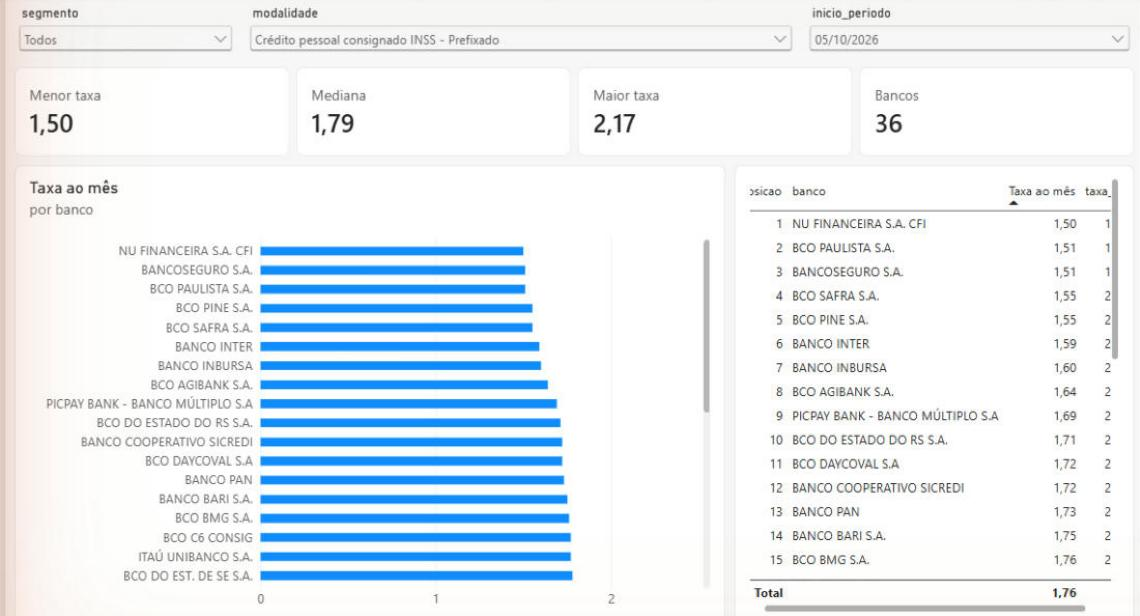

What the dashboard file says about the page in this screenshot:
{"tool":"powerbi","page":{"name":"Ranking","canvas":[1280,720],"ordinal":0},"visuals":[{"type":"slicer","fields":{"Values":["taxas.segmento"]},"box":[10,10,250,60],"z":0},{"type":"slicer","fields":{"Values":["taxas.modalidade"]},"box":[270,10,620,60],"z":1},{"type":"slicer","fields":{"Values":["taxas.inicio_periodo"]},"box":[900,10,370,60],"z":2},{"type":"cardVisual","fields":{"Data":["taxas.Menor taxa","taxas.Mediana","taxas.Maior taxa","taxas.Bancos"]},"box":[10,80,1260,100],"z":3},{"type":"clusteredBarChart","fields":{"Category":["taxas.banco"],"Y":["taxas.Taxa ao mês"]},"box":[10,190,800,520],"z":4},{"type":"tableEx","fields":{"Values":["taxas.posicao","taxas.banco","taxas.Taxa ao mês","taxas.taxa_ano"]},"box":[820,190,450,520],"z":5}]}

Visuals, with their boxes on the page's 1280x720 design canvas (x1, y1, x2, y2). These are canvas units, not pixel positions in the 1140x616 screenshot, which may show the page scaled, cropped or inside an application window:
slicer - taxas.segmento: <region>10, 10, 260, 70</region>
slicer - taxas.modalidade: <region>270, 10, 890, 70</region>
slicer - taxas.inicio_periodo: <region>900, 10, 1270, 70</region>
cardVisual - taxas.Menor taxa x taxas.Mediana: <region>10, 80, 1270, 180</region>
clusteredBarChart - taxas.banco x taxas.Taxa ao mês: <region>10, 190, 810, 710</region>
tableEx - taxas.posicao x taxas.banco: <region>820, 190, 1270, 710</region>
